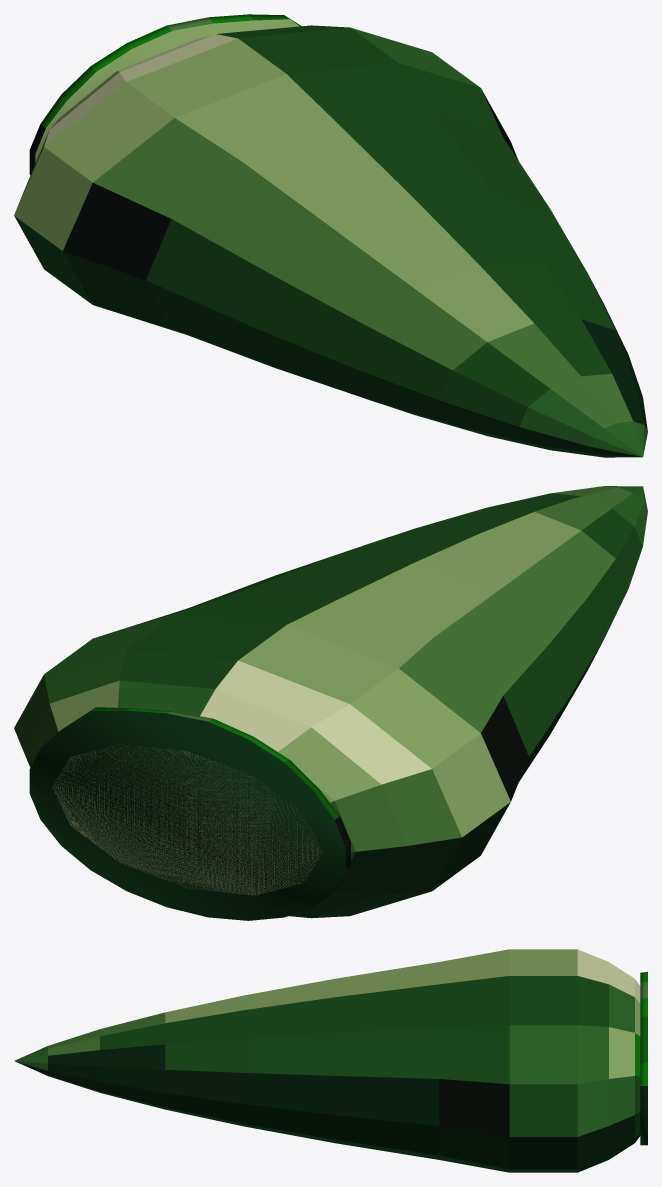
File: newshh-115.glb
3 views of the same model, one above another, from view 1: azimuth 30°, elevation 25°; view 2: azimuth 150°, elevation 25°; view 3: azimuth 270°, elevation 25° (orthographic). The views are drawn at different scales.
Parts seen in each view (by area): view 1: newshh-115; view 2: newshh-115; view 3: newshh-115.
Part boxes in pixels (x1,y1,x2,y2): newshh-115: (14,14,647,457); newshh-115: (14,486,647,920); newshh-115: (14,949,647,1172).
Bounding box in the file's own units: 1.15 × 0.6 × 2.03.
